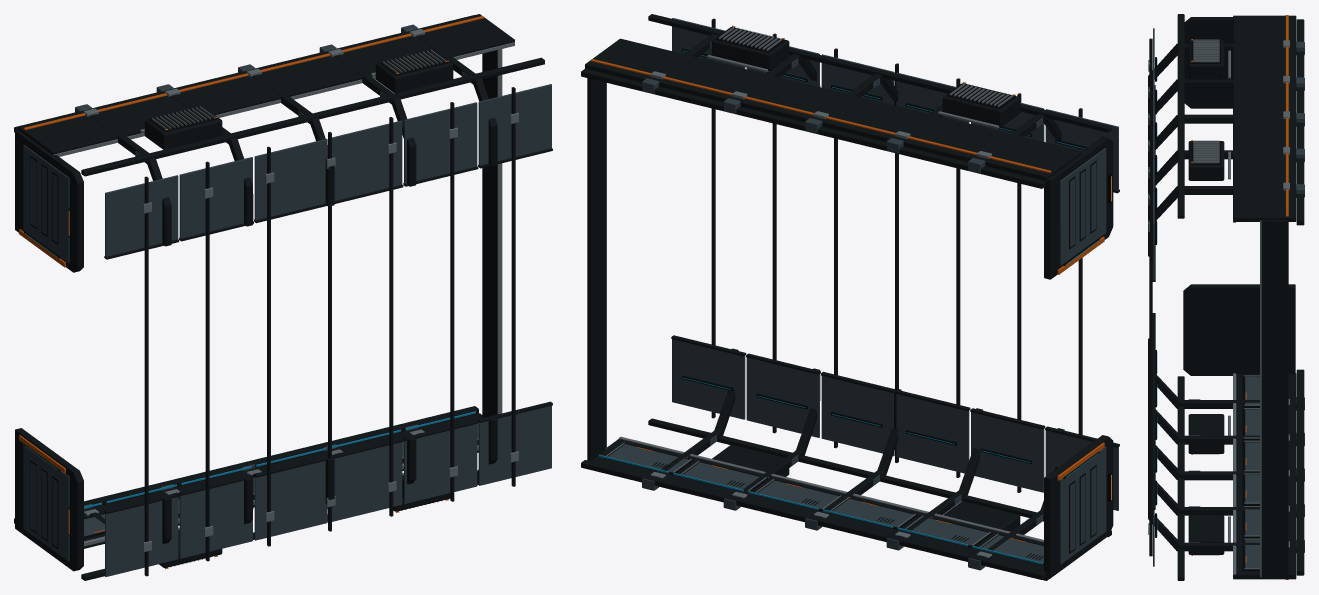
Rendered from StationShellCandidate.obj.
The picture shows the model from 3 angles, left to right: view 1: azimuth 30°, elevation 25°; view 2: azimuth 150°, elevation 25°; view 3: azimuth 270°, elevation 25°; orthographic projection. The views are drawn at different scales.
Parts seen in each view (by area): view 1: SM_StationShellCandidate; view 2: SM_StationShellCandidate; view 3: SM_StationShellCandidate.
Boxes of the visible parts, x1=… form: SM_StationShellCandidate: x1=14, y1=14, x2=552, y2=580; SM_StationShellCandidate: x1=581, y1=14, x2=1119, y2=580; SM_StationShellCandidate: x1=1148, y1=14, x2=1304, y2=580.
Size of the model in its own units: 3466 by 3092 by 1116.
